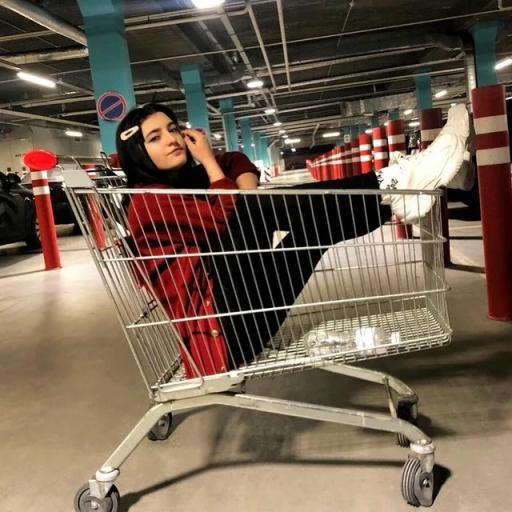shopping_cart: (23, 145, 455, 512)
